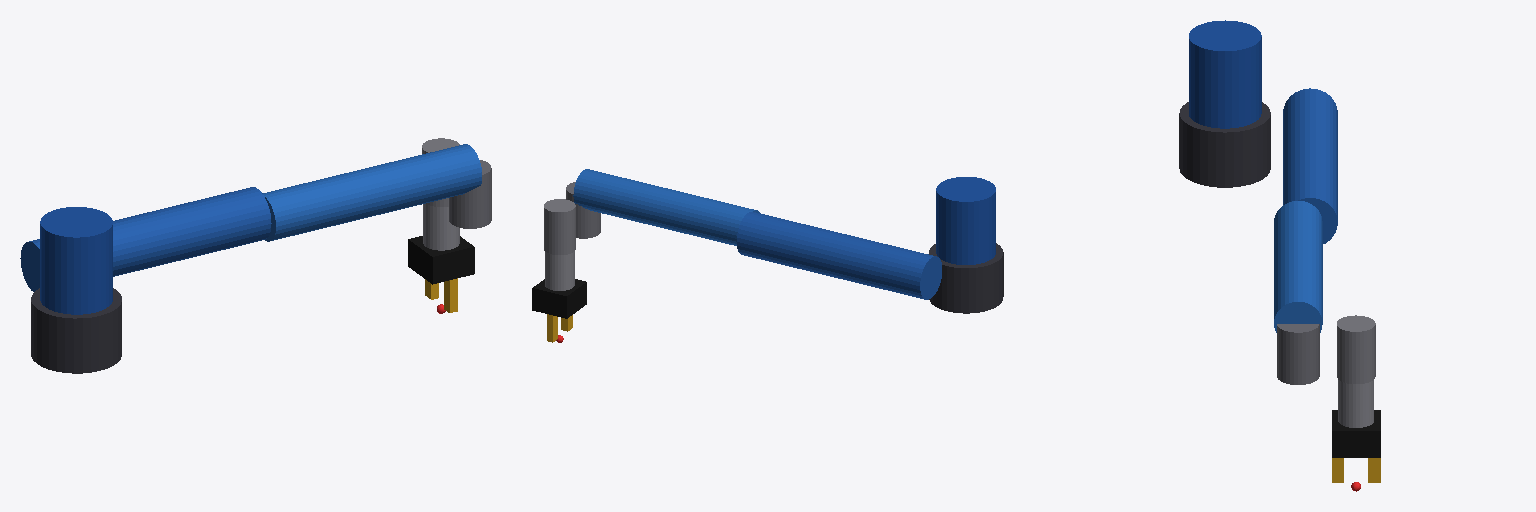
The robot description file, URDF, robot "ur5e_gripper":
<?xml version="1.0"?>
<!--
  Primitive UR5e-like 6-DOF arm + simple 2-finger gripper.
  Uses only cylinder/box/sphere geometry so it renders without external mesh files.
  Dimensions are approximate industrial-arm proportions (not CAD-accurate).
  Real Universal Robots / Robotiq meshes can replace the <visual> blocks later.
-->
<robot name="ur5e_gripper">

  <!-- ========== LINKS ========== -->

  <link name="base_link">
    <visual>
      <origin xyz="0 0 0.05" rpy="0 0 0"/>
      <geometry><cylinder radius="0.075" length="0.10"/></geometry>
      <material name="dark_grey"><color rgba="0.25 0.25 0.28 1"/></material>
    </visual>
    <collision>
      <origin xyz="0 0 0.05" rpy="0 0 0"/>
      <geometry><cylinder radius="0.075" length="0.10"/></geometry>
    </collision>
  </link>

  <link name="shoulder_link">
    <visual>
      <origin xyz="0 0 0.07" rpy="0 0 0"/>
      <geometry><cylinder radius="0.06" length="0.14"/></geometry>
      <material name="ur_blue"><color rgba="0.15 0.35 0.65 1"/></material>
    </visual>
    <collision>
      <origin xyz="0 0 0.07" rpy="0 0 0"/>
      <geometry><cylinder radius="0.06" length="0.14"/></geometry>
    </collision>
  </link>

  <link name="upper_arm_link">
    <visual>
      <origin xyz="0 0 0.2125" rpy="0 0 0"/>
      <geometry><cylinder radius="0.045" length="0.425"/></geometry>
      <material name="ur_blue2"><color rgba="0.18 0.40 0.70 1"/></material>
    </visual>
    <collision>
      <origin xyz="0 0 0.2125" rpy="0 0 0"/>
      <geometry><cylinder radius="0.045" length="0.425"/></geometry>
    </collision>
  </link>

  <link name="forearm_link">
    <visual>
      <origin xyz="0 0 0.196" rpy="0 0 0"/>
      <geometry><cylinder radius="0.04" length="0.392"/></geometry>
      <material name="ur_blue3"><color rgba="0.20 0.45 0.75 1"/></material>
    </visual>
    <collision>
      <origin xyz="0 0 0.196" rpy="0 0 0"/>
      <geometry><cylinder radius="0.04" length="0.392"/></geometry>
    </collision>
  </link>

  <link name="wrist_1_link">
    <visual>
      <origin xyz="0 0 0.0475" rpy="0 0 0"/>
      <geometry><cylinder radius="0.035" length="0.095"/></geometry>
      <material name="grey1"><color rgba="0.45 0.45 0.48 1"/></material>
    </visual>
    <collision>
      <origin xyz="0 0 0.0475" rpy="0 0 0"/>
      <geometry><cylinder radius="0.035" length="0.095"/></geometry>
    </collision>
  </link>

  <link name="wrist_2_link">
    <visual>
      <origin xyz="0 0 0.0475" rpy="0 0 0"/>
      <geometry><cylinder radius="0.032" length="0.095"/></geometry>
      <material name="grey2"><color rgba="0.50 0.50 0.53 1"/></material>
    </visual>
    <collision>
      <origin xyz="0 0 0.0475" rpy="0 0 0"/>
      <geometry><cylinder radius="0.032" length="0.095"/></geometry>
    </collision>
  </link>

  <link name="wrist_3_link">
    <visual>
      <origin xyz="0 0 0.04" rpy="0 0 0"/>
      <geometry><cylinder radius="0.03" length="0.08"/></geometry>
      <material name="grey3"><color rgba="0.55 0.55 0.58 1"/></material>
    </visual>
    <collision>
      <origin xyz="0 0 0.04" rpy="0 0 0"/>
      <geometry><cylinder radius="0.03" length="0.08"/></geometry>
    </collision>
  </link>

  <!-- Gripper base (flange-mounted) -->
  <link name="gripper_base_link">
    <visual>
      <origin xyz="0 0 0.025" rpy="0 0 0"/>
      <geometry><box size="0.08 0.08 0.05"/></geometry>
      <material name="gripper_black"><color rgba="0.12 0.12 0.12 1"/></material>
    </visual>
    <collision>
      <origin xyz="0 0 0.025" rpy="0 0 0"/>
      <geometry><box size="0.08 0.08 0.05"/></geometry>
    </collision>
  </link>

  <link name="finger_left_link">
    <visual>
      <origin xyz="0 0.01 0.03" rpy="0 0 0"/>
      <geometry><box size="0.015 0.02 0.06"/></geometry>
      <material name="finger"><color rgba="0.85 0.65 0.15 1"/></material>
    </visual>
    <collision>
      <origin xyz="0 0.01 0.03" rpy="0 0 0"/>
      <geometry><box size="0.015 0.02 0.06"/></geometry>
    </collision>
  </link>

  <link name="finger_right_link">
    <visual>
      <origin xyz="0 -0.01 0.03" rpy="0 0 0"/>
      <geometry><box size="0.015 0.02 0.06"/></geometry>
      <material name="finger2"><color rgba="0.85 0.65 0.15 1"/></material>
    </visual>
    <collision>
      <origin xyz="0 -0.01 0.03" rpy="0 0 0"/>
      <geometry><box size="0.015 0.02 0.06"/></geometry>
    </collision>
  </link>

  <!-- Tool tip frame (fixed) -->
  <link name="tool0">
    <visual>
      <origin xyz="0 0 0" rpy="0 0 0"/>
      <geometry><sphere radius="0.008"/></geometry>
      <material name="tip"><color rgba="0.9 0.2 0.2 1"/></material>
    </visual>
  </link>

  <!-- ========== JOINTS (UR-style names) ========== -->

  <joint name="shoulder_pan_joint" type="revolute">
    <parent link="base_link"/>
    <child link="shoulder_link"/>
    <origin xyz="0 0 0.10" rpy="0 0 0"/>
    <axis xyz="0 0 1"/>
    <limit lower="-6.2832" upper="6.2832" effort="150" velocity="3.14"/>
  </joint>

  <joint name="shoulder_lift_joint" type="revolute">
    <parent link="shoulder_link"/>
    <child link="upper_arm_link"/>
    <origin xyz="0 0.14 0" rpy="0 1.5708 0"/>
    <axis xyz="0 1 0"/>
    <limit lower="-6.2832" upper="6.2832" effort="150" velocity="3.14"/>
  </joint>

  <joint name="elbow_joint" type="revolute">
    <parent link="upper_arm_link"/>
    <child link="forearm_link"/>
    <origin xyz="0 -0.02 0.425" rpy="0 0 0"/>
    <axis xyz="0 1 0"/>
    <limit lower="-3.1416" upper="3.1416" effort="150" velocity="3.14"/>
  </joint>

  <joint name="wrist_1_joint" type="revolute">
    <parent link="forearm_link"/>
    <child link="wrist_1_link"/>
    <origin xyz="0 0 0.392" rpy="0 1.5708 0"/>
    <axis xyz="0 1 0"/>
    <limit lower="-6.2832" upper="6.2832" effort="28" velocity="3.14"/>
  </joint>

  <joint name="wrist_2_joint" type="revolute">
    <parent link="wrist_1_link"/>
    <child link="wrist_2_link"/>
    <origin xyz="0 0.095 0" rpy="0 0 0"/>
    <axis xyz="0 1 0"/>
    <limit lower="-6.2832" upper="6.2832" effort="28" velocity="3.14"/>
  </joint>

  <joint name="wrist_3_joint" type="revolute">
    <parent link="wrist_2_link"/>
    <child link="wrist_3_link"/>
    <origin xyz="0 0 0.095" rpy="0 0 0"/>
    <axis xyz="0 1 0"/>
    <limit lower="-6.2832" upper="6.2832" effort="28" velocity="3.14"/>
  </joint>

  <joint name="gripper_fixed" type="fixed">
    <parent link="wrist_3_link"/>
    <child link="gripper_base_link"/>
    <origin xyz="0 0 0.08" rpy="0 0 0"/>
  </joint>

  <!-- Primary actuated gripper joint (mirrored to right finger via mimic-like logic in viewer) -->
  <joint name="finger_joint" type="prismatic">
    <parent link="gripper_base_link"/>
    <child link="finger_left_link"/>
    <origin xyz="0 0.02 0.05" rpy="0 0 0"/>
    <axis xyz="0 1 0"/>
    <limit lower="0.0" upper="0.04" effort="20" velocity="0.1"/>
  </joint>

  <joint name="finger_joint_right" type="prismatic">
    <parent link="gripper_base_link"/>
    <child link="finger_right_link"/>
    <origin xyz="0 -0.02 0.05" rpy="0 0 0"/>
    <axis xyz="0 -1 0"/>
    <limit lower="0.0" upper="0.04" effort="20" velocity="0.1"/>
  </joint>

  <joint name="tool0_fixed" type="fixed">
    <parent link="gripper_base_link"/>
    <child link="tool0"/>
    <origin xyz="0 0 0.12" rpy="0 0 0"/>
  </joint>

</robot>

--- Facts derived from the render (not from the file) ---
3 views of the same robot in one strip: view 1: azimuth 30°, elevation 25°; view 2: azimuth 150°, elevation 25°; view 3: azimuth 270°, elevation 25° (orthographic).
Robot: ur5e_gripper — 11 links, 10 joints (6 revolute, 2 prismatic, 2 fixed); root link base_link; default pose: all joints at 0.
Links seen in each view (by area): view 1: forearm_link, upper_arm_link, shoulder_link, base_link, gripper_base_link, wrist_1_link, wrist_3_link; view 2: upper_arm_link, forearm_link, shoulder_link, base_link, wrist_2_link, gripper_base_link, wrist_3_link, wrist_1_link; view 3: shoulder_link, upper_arm_link, forearm_link, base_link, wrist_2_link, wrist_1_link, gripper_base_link, wrist_3_link.
Link boxes in pixels (box(x1,y1,x2,y2)): forearm_link: box(262, 144, 481, 241); upper_arm_link: box(20, 187, 271, 291); shoulder_link: box(40, 207, 112, 314); base_link: box(31, 288, 121, 373); gripper_base_link: box(408, 236, 474, 284); wrist_1_link: box(449, 160, 491, 228); wrist_3_link: box(423, 204, 459, 250); upper_arm_link: box(737, 212, 941, 299); forearm_link: box(573, 169, 759, 245); shoulder_link: box(936, 177, 995, 264); base_link: box(929, 243, 1003, 313); wrist_2_link: box(544, 199, 575, 254); gripper_base_link: box(532, 279, 586, 318); wrist_3_link: box(545, 251, 574, 290); wrist_1_link: box(566, 182, 600, 238); shoulder_link: box(1189, 20, 1261, 128); upper_arm_link: box(1283, 88, 1337, 243); forearm_link: box(1274, 201, 1322, 332); base_link: box(1179, 102, 1270, 187); wrist_2_link: box(1337, 315, 1375, 383); wrist_1_link: box(1277, 324, 1319, 384); gripper_base_link: box(1332, 410, 1380, 457); wrist_3_link: box(1338, 380, 1373, 427).
Bounding box of the posed robot: 0.932 × 0.33 × 0.443 m (x, y, z).
Geometry: primitives only (box / cylinder / sphere), no mesh files.
